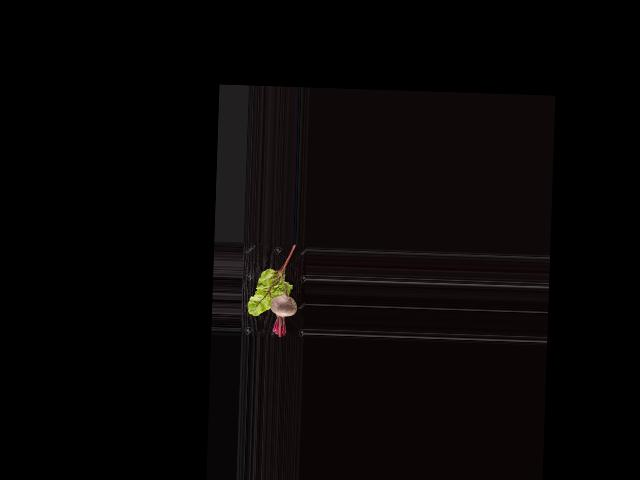beet: (269, 270, 298, 338)
